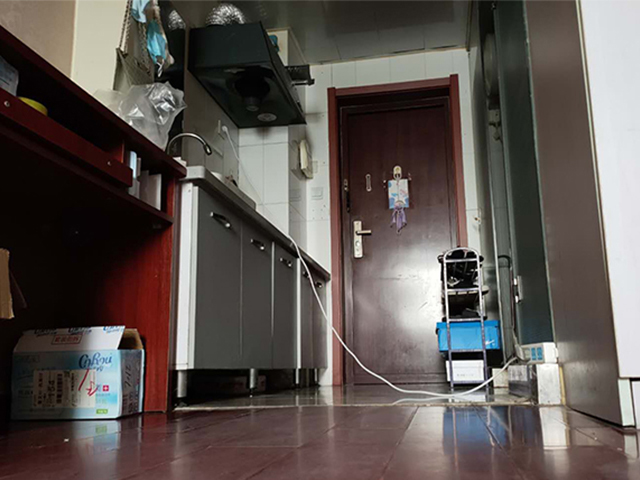cabinet: (174, 164, 334, 407)
table: (1, 27, 188, 416)
wire: (343, 347, 521, 400)
